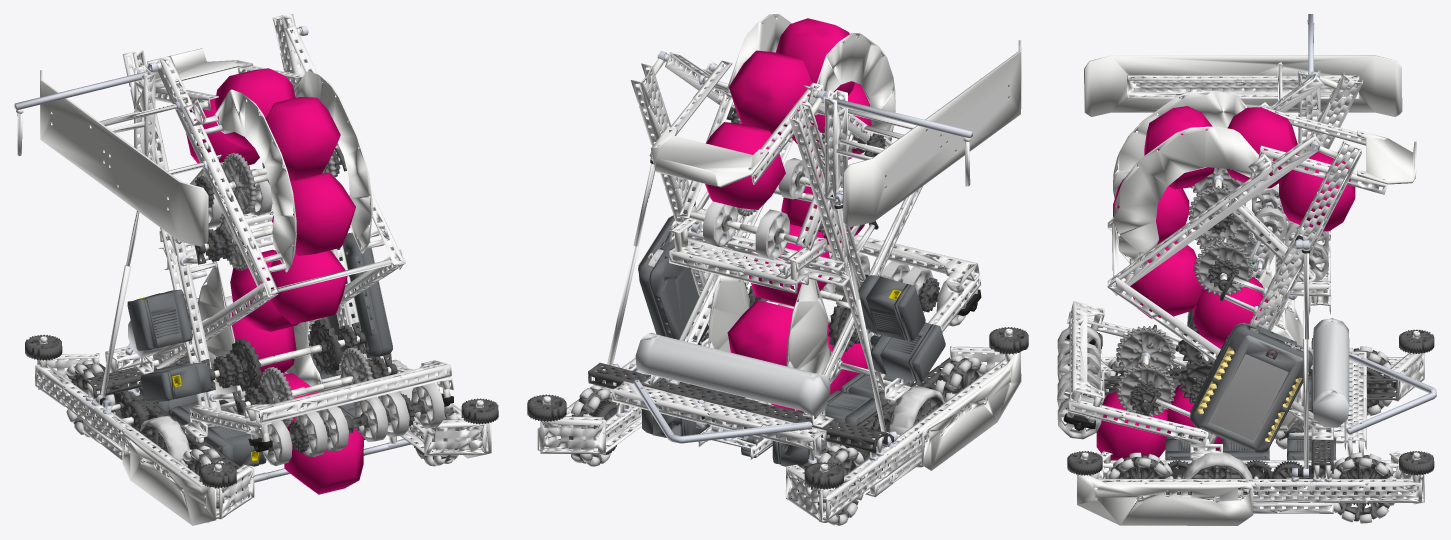
File: vex.glb
The picture shows the model from 3 angles, left to right: view 1: azimuth 30°, elevation 25°; view 2: azimuth 150°, elevation 25°; view 3: azimuth 270°, elevation 25°; orthographic projection. The views are drawn at different scales.
Visible parts, largest first — view 1: Body1.628; view 2: Body1.628; view 3: Body1.628.
Boxes of the visible parts, x1,y1,x2,y2 form: Body1.628: [14, 14, 498, 525]; Body1.628: [527, 14, 1028, 525]; Body1.628: [1057, 14, 1436, 525].
Size of the model in its own units: 45.57 by 45.98 by 43.63.
